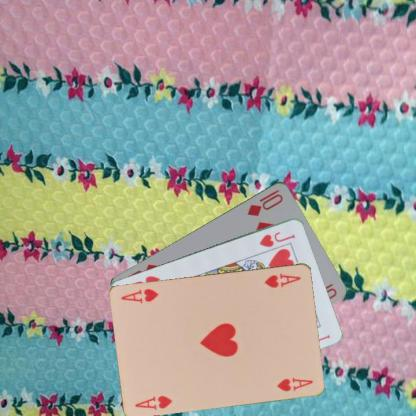10d: (244, 187, 285, 217)
Ah: (262, 270, 302, 289), (132, 393, 174, 411)
Jh: (256, 229, 297, 248)
